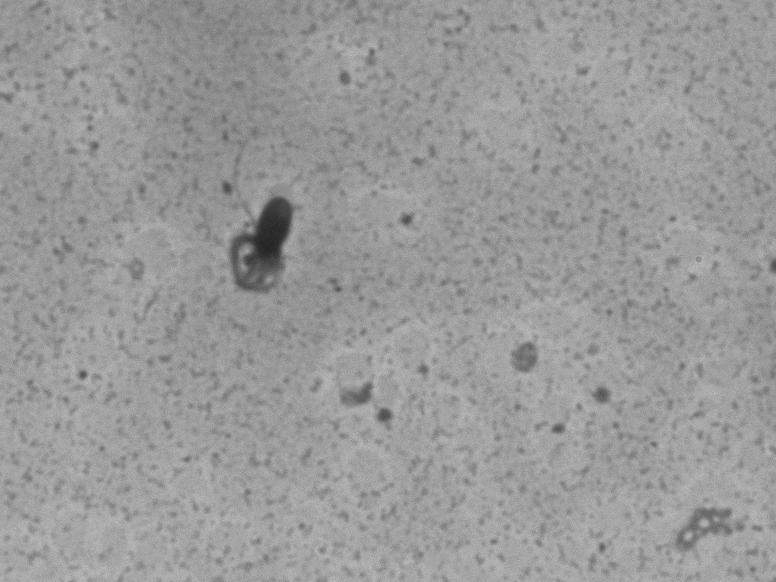Abnormal: (160, 141, 329, 310)
